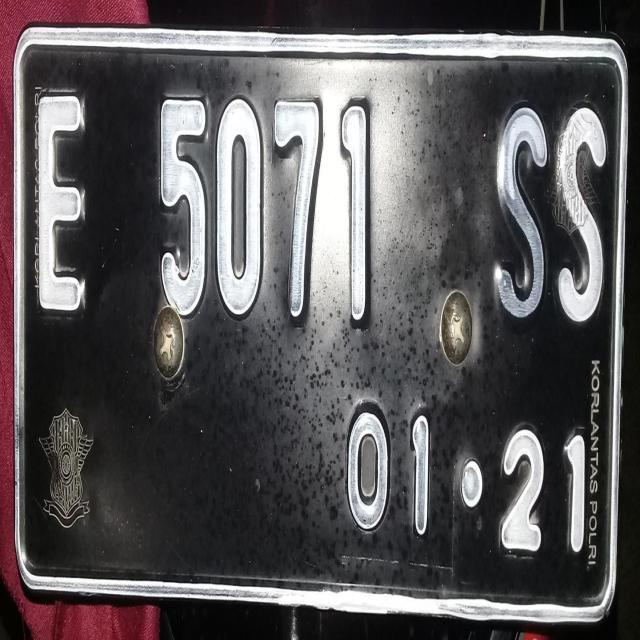0: (213, 93, 265, 350)
1: (324, 99, 378, 349)
5: (157, 78, 207, 330)
7: (266, 80, 328, 340)
E: (27, 70, 92, 316)
S: (480, 84, 550, 344), (554, 89, 610, 347)
